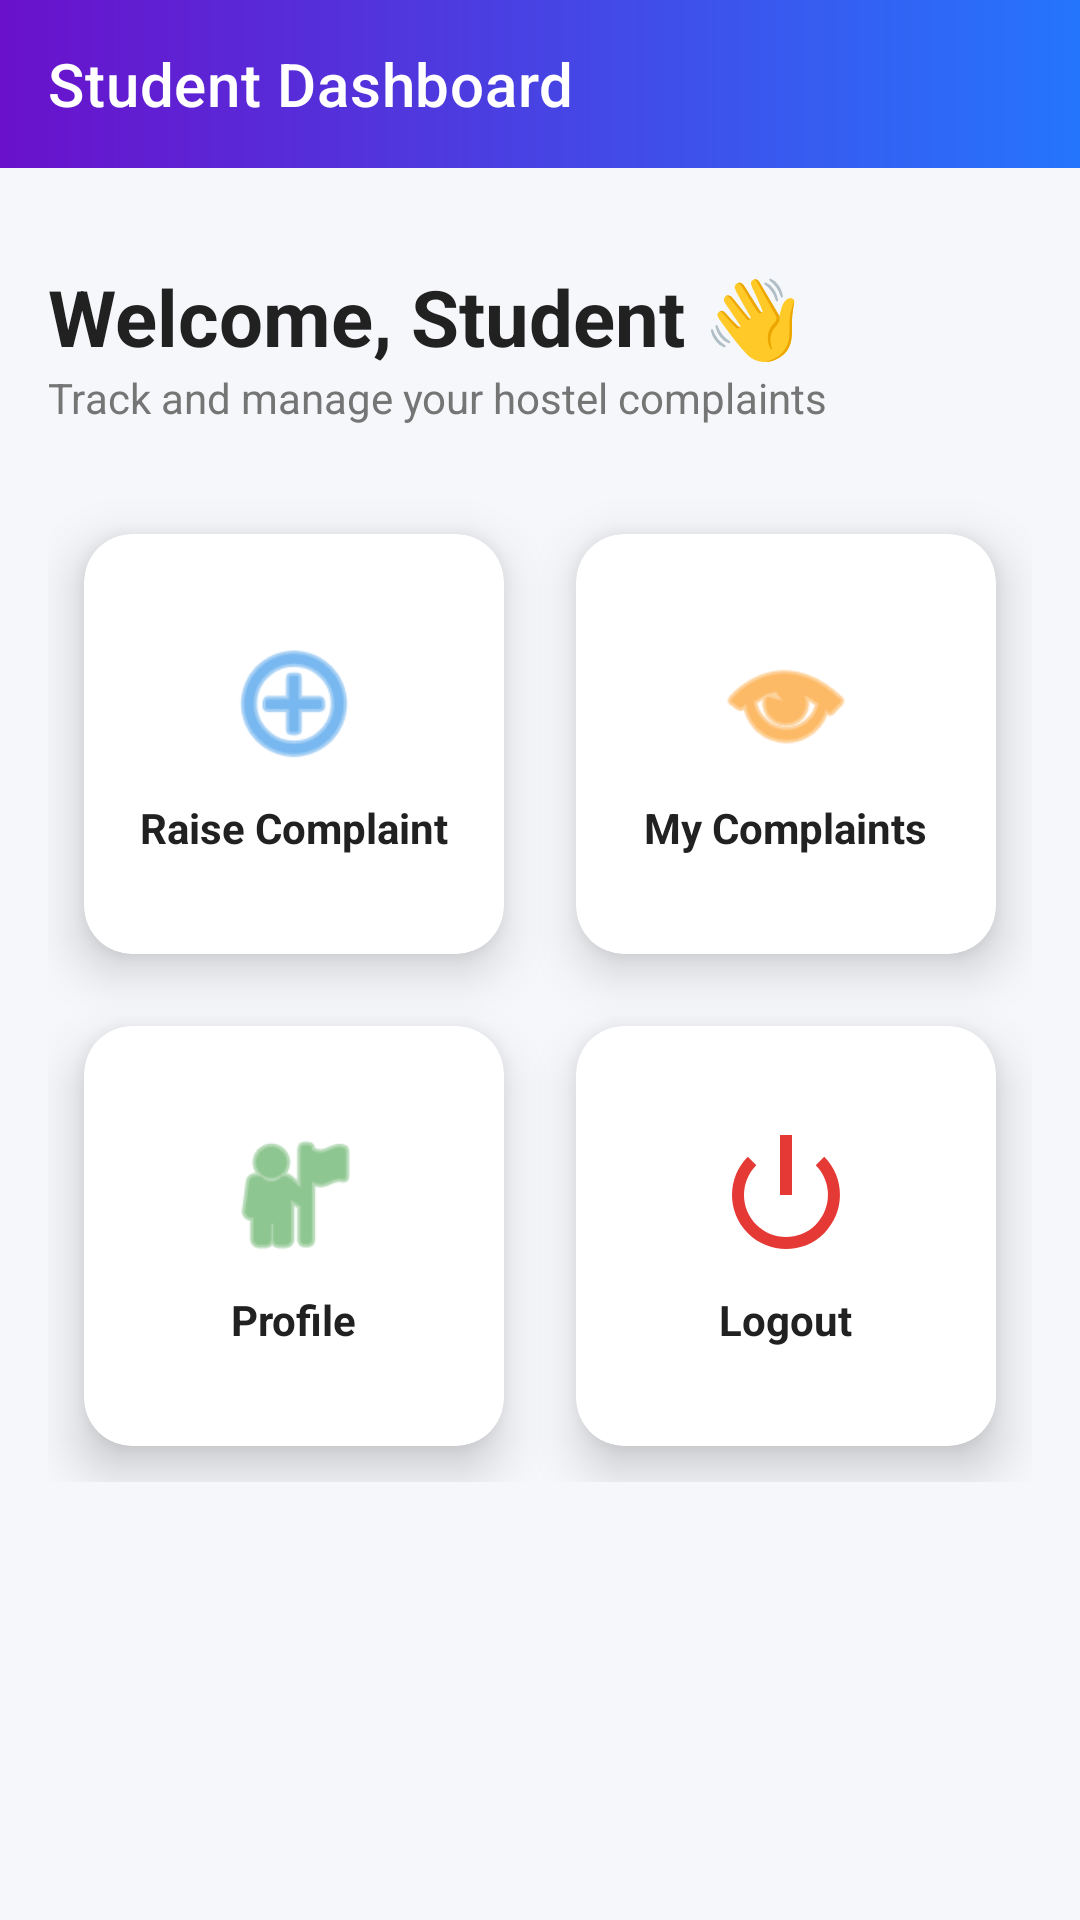

Where icons sit on this 1080w x 1920h app screen, as {"left": x1, "top": y1, "right": x2, "bottom": y2}:
add: {"left": 240, "top": 650, "right": 348, "bottom": 757}
lock power off: {"left": 732, "top": 1135, "right": 840, "bottom": 1249}
view: {"left": 727, "top": 670, "right": 845, "bottom": 744}
